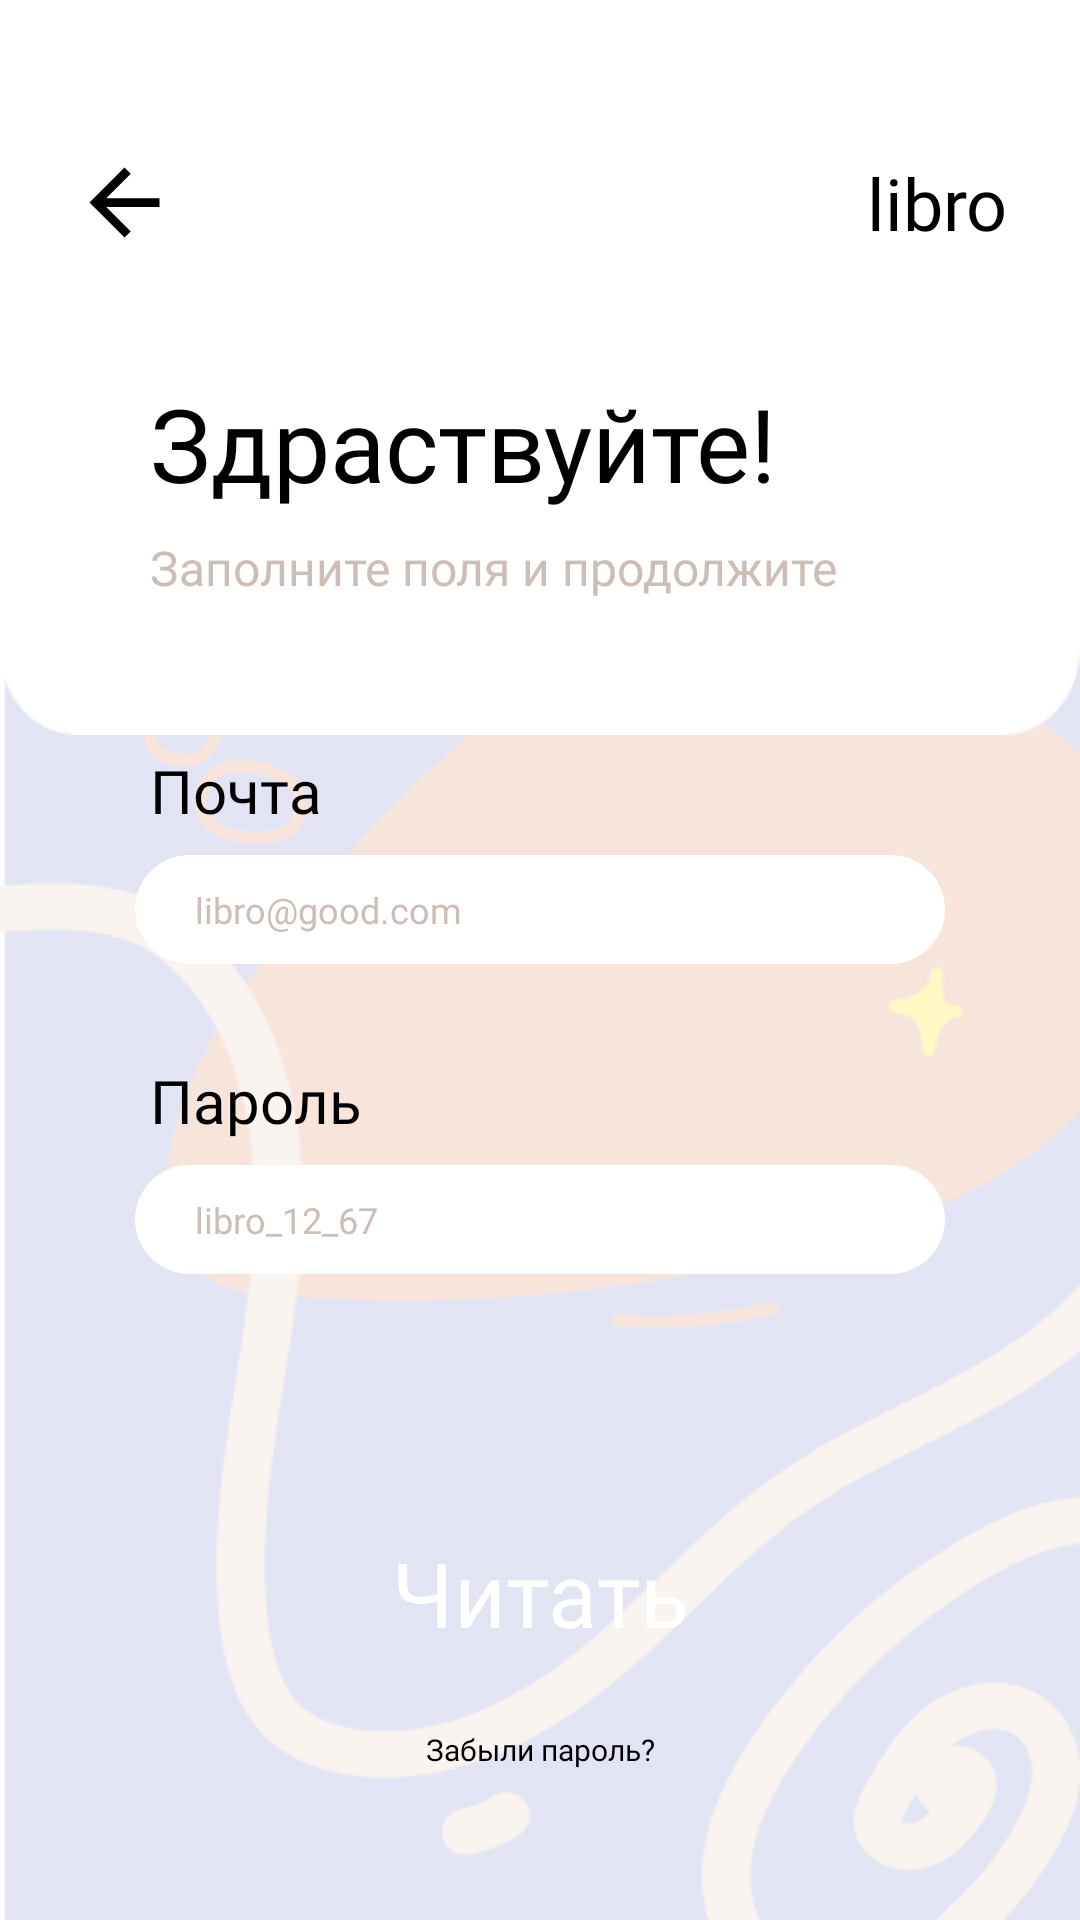

Icon click points for this 1080w x 1920h phone screenshot, format [x,y]:
arrow: [124,202]
